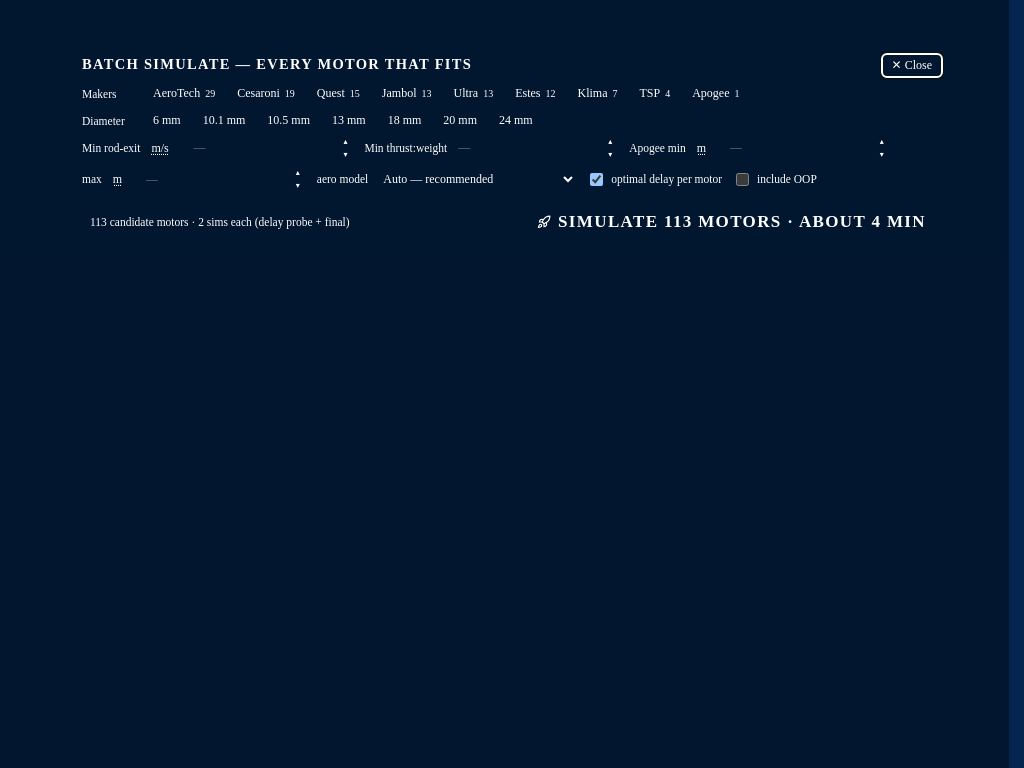
the candidates › storage hardening: draws unavailable optimum delay (5)
Click the button "Simulate 113 motors · about 4 min": (732, 222) [521,206,942,238]
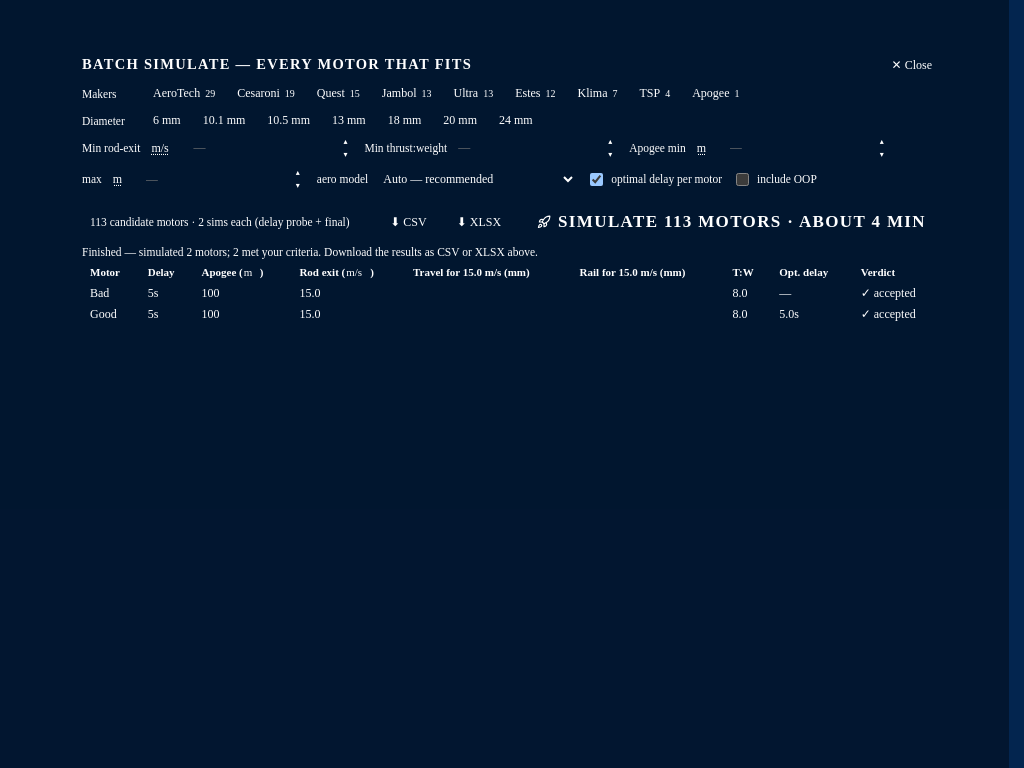
Result: the cell "—" is shown at [771,283,853,304]
Result: the cell "5.0s" is shown at [771,304,853,325]
